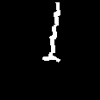half_double_crochet: (43, 3, 59, 61)
